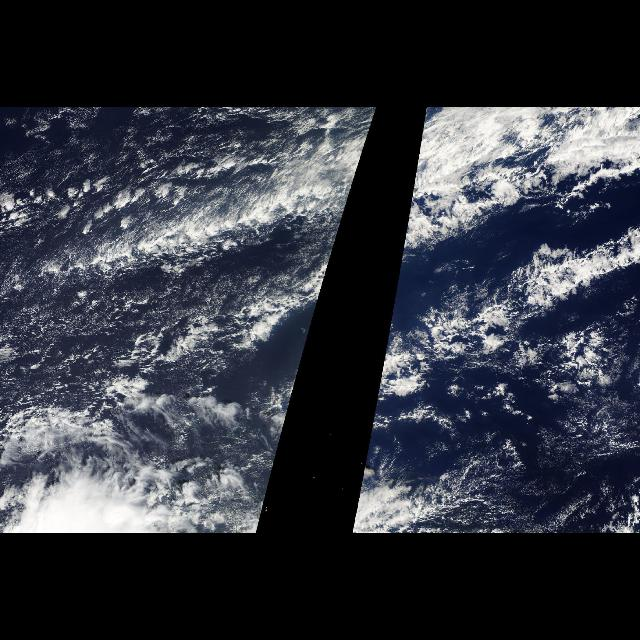Fish: (0, 128, 342, 400), (370, 215, 634, 468)
